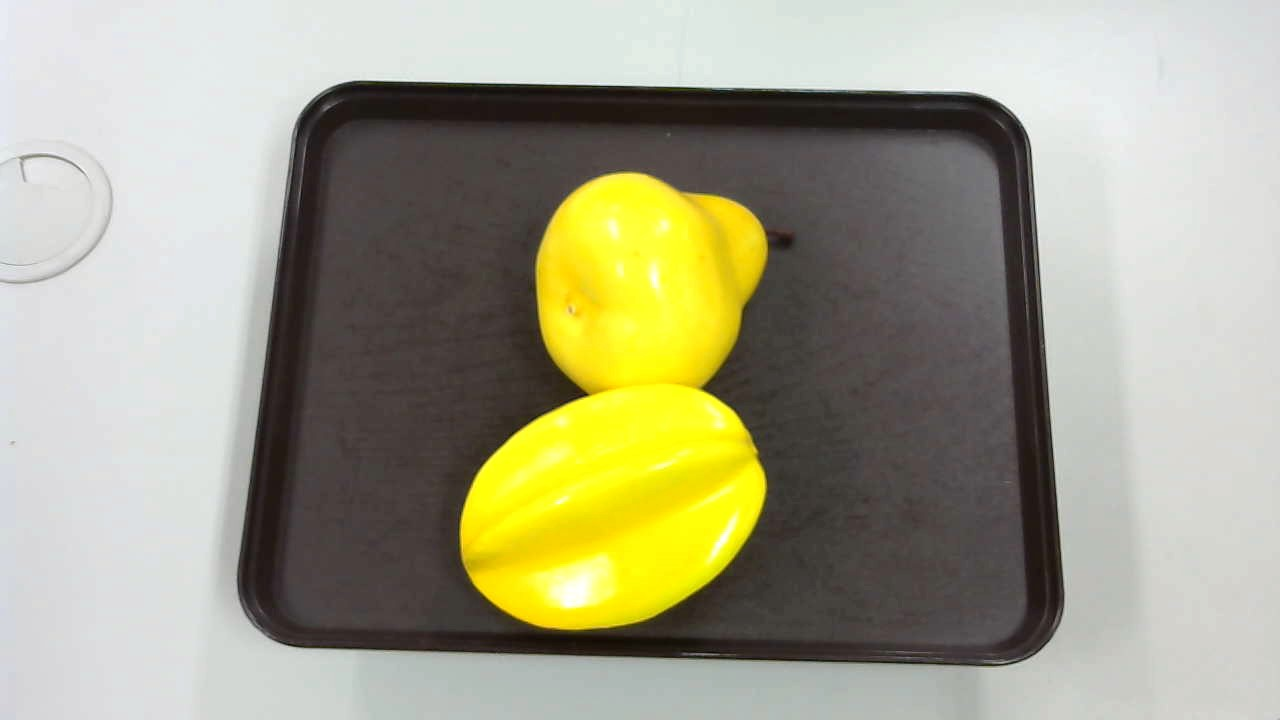star fruit: (454, 386, 773, 625)
yellow pear: (528, 165, 798, 405)
